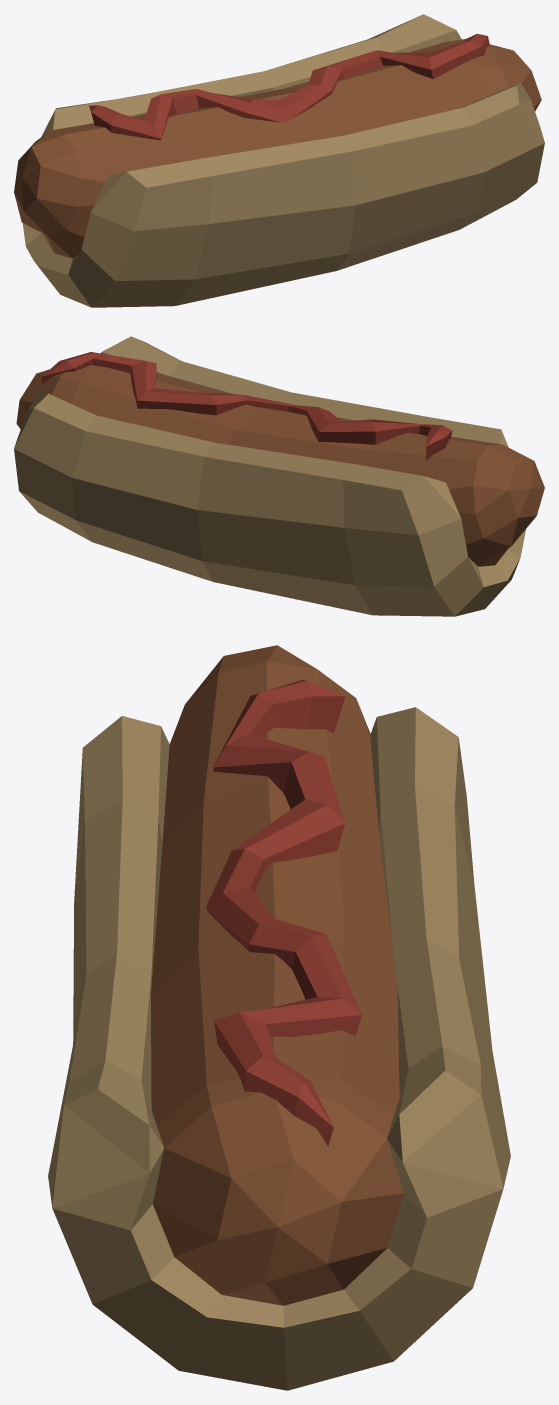
Rendered from SM_Prop_Food_Hotdog_01.fbx.
The picture shows the model from 3 angles, top to bottom: view 1: azimuth 30°, elevation 25°; view 2: azimuth 150°, elevation 25°; view 3: azimuth 270°, elevation 25°; orthographic projection. The views are drawn at different scales.
Visible parts, largest first — view 1: SM_Prop_Food_Hotdog_01; view 2: SM_Prop_Food_Hotdog_01; view 3: SM_Prop_Food_Hotdog_01.
Boxes of the visible parts, <box> form: SM_Prop_Food_Hotdog_01: <box>14,14,544,307</box>; SM_Prop_Food_Hotdog_01: <box>14,336,544,616</box>; SM_Prop_Food_Hotdog_01: <box>48,645,510,1390</box>.
Bounding box in the file's own units: 37.49 × 13.96 × 14.88.
